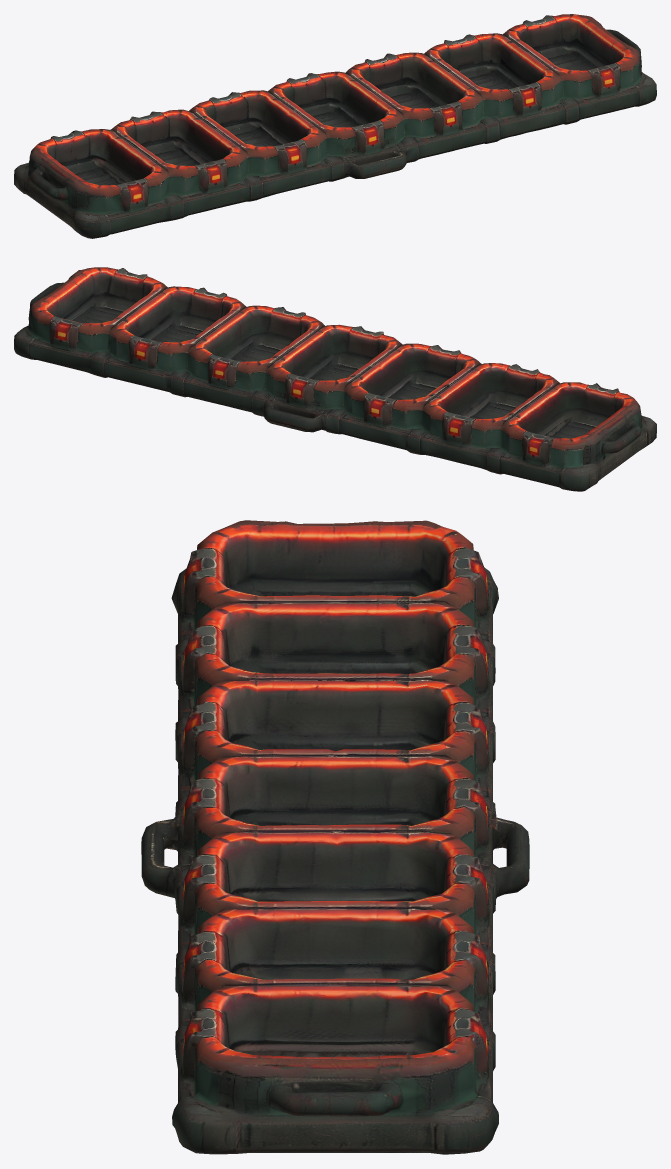
Rendered from Meshy_AI_Dock_Alert_0424154721_texture_fbx.fbx.
3 renders of one model, top to bottom at view 1: azimuth 30°, elevation 25°; view 2: azimuth 150°, elevation 25°; view 3: azimuth 270°, elevation 25°, orthographic. The views are drawn at different scales.
Parts seen in each view (by area): view 1: Mesh_0.001; view 2: Mesh_0.001; view 3: Mesh_0.001.
Boxes of the visible parts, <box> form: Mesh_0.001: <box>14,14,656,238</box>; Mesh_0.001: <box>14,267,656,491</box>; Mesh_0.001: <box>141,520,529,1154</box>.
Bounding box in the file's own units: 846 × 60 × 241.
1 material, 1 textured.
